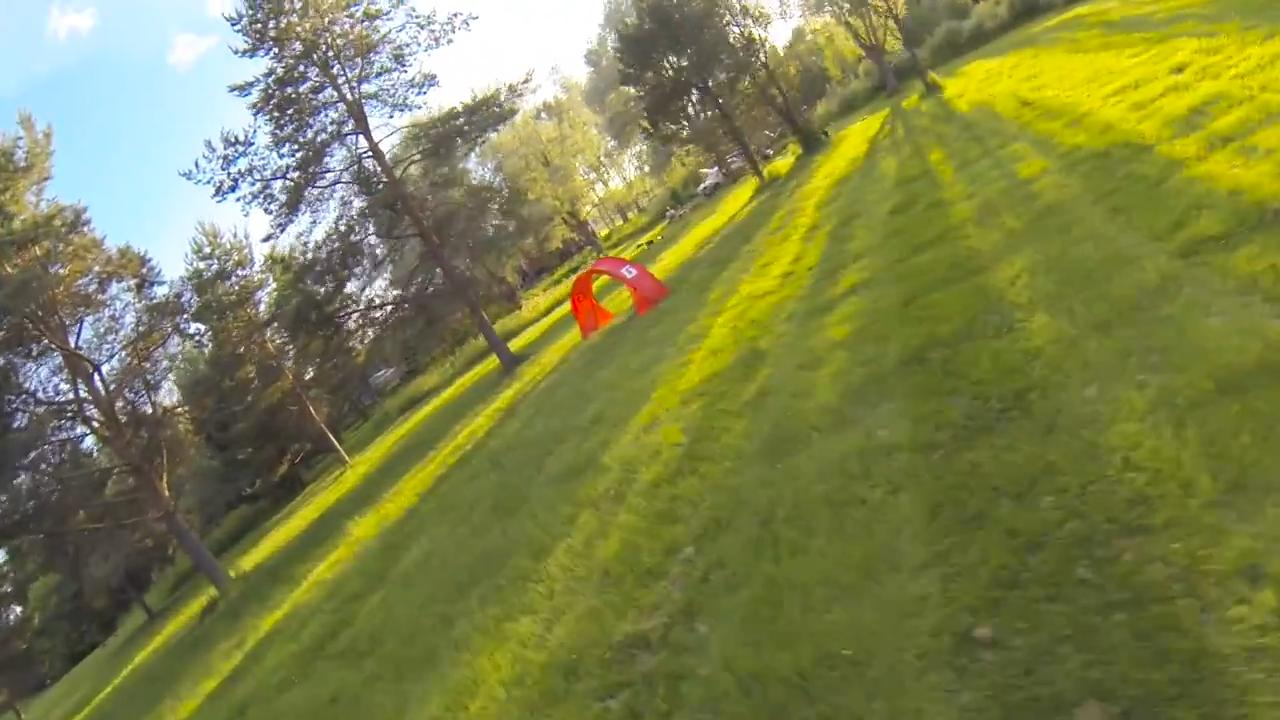gate: (567, 256, 671, 341)
